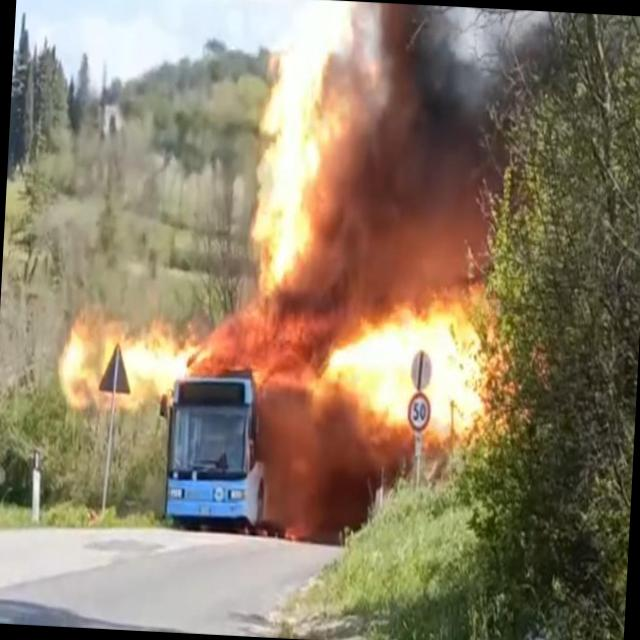Fire: (336, 298, 524, 441), (251, 0, 329, 296), (67, 320, 196, 406)
Smoke: (360, 7, 560, 301), (276, 435, 375, 526)
